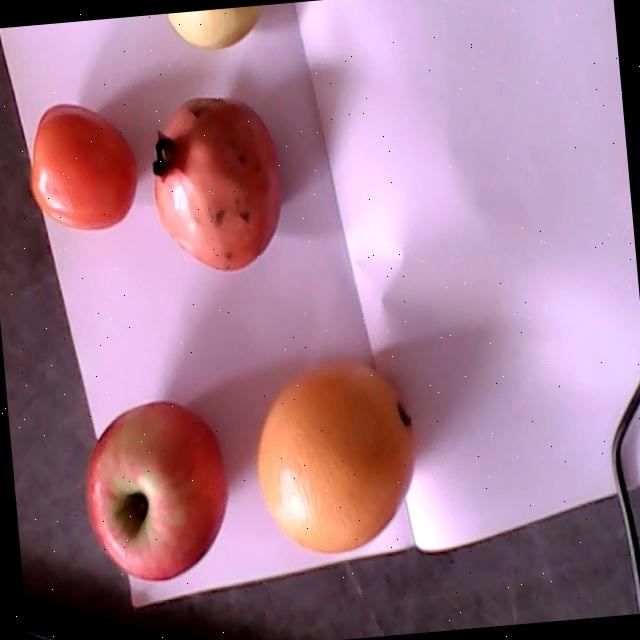apple: (85, 400, 226, 579)
lemon: (167, 5, 261, 45)
orange: (255, 360, 414, 551)
pomegranate: (150, 95, 284, 271)
tomato: (27, 105, 136, 229)
